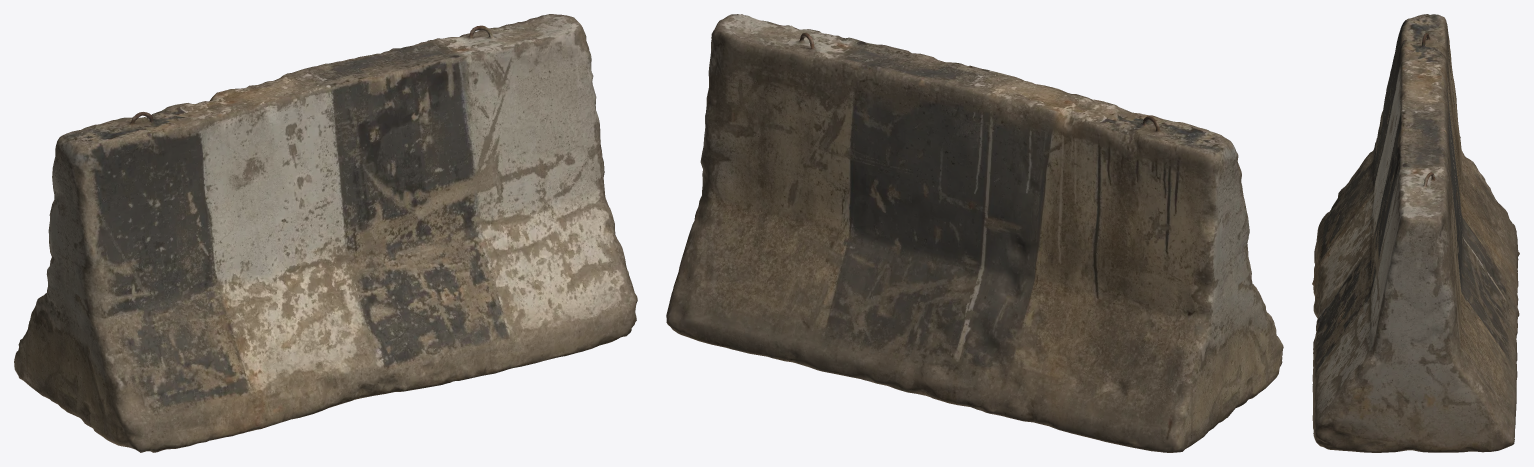
The model's file is concrete_road_barrier_1k.glb.
3 renders of one model, left to right at view 1: azimuth 30°, elevation 25°; view 2: azimuth 150°, elevation 25°; view 3: azimuth 270°, elevation 25°, orthographic. The views are drawn at different scales.
Visible parts, largest first — view 1: concrete_road_barrier; view 2: concrete_road_barrier; view 3: concrete_road_barrier.
Part boxes in pixels (x1,y1,x2,y2): concrete_road_barrier: (14,14,637,452); concrete_road_barrier: (666,14,1283,452); concrete_road_barrier: (1312,14,1519,452).
Size of the model in its own units: 1.54 by 0.8309 by 0.6386.
1 material, 1 textured.
